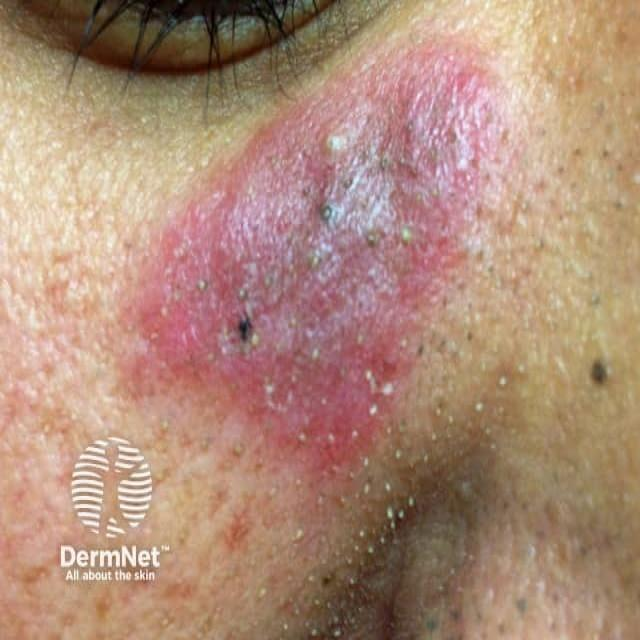lupus-detected: (103, 47, 548, 481)
